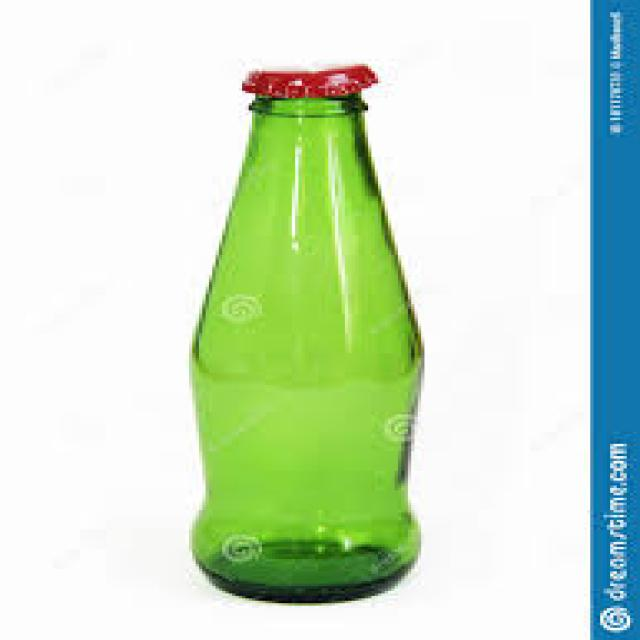glass: (186, 96, 418, 601)
metal: (239, 59, 368, 91)
